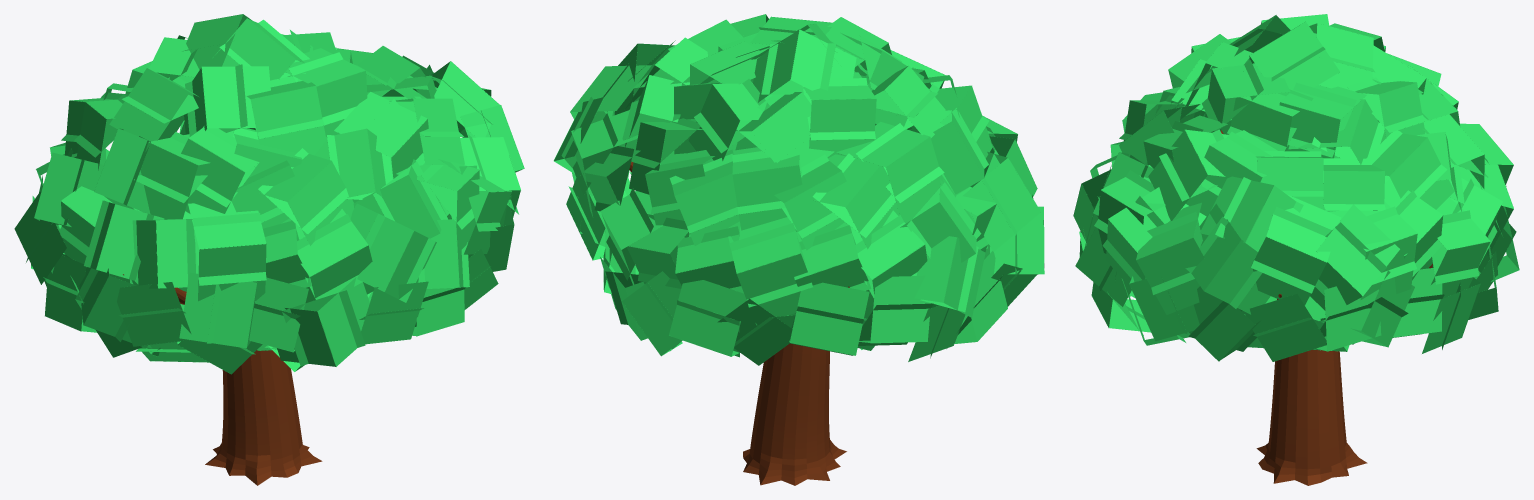
Rendered from Tree_Oak.fbx.
3 renders of one model, left to right at view 1: azimuth 30°, elevation 25°; view 2: azimuth 150°, elevation 25°; view 3: azimuth 270°, elevation 25°, orthographic. The views are drawn at different scales.
Parts seen in each view (by area): view 1: Trunk, Leaves.017, Leaves.039, Leaves.070, Leaves.037, Leaves.071, Leaves.031, Leaves.038, Leaves.016, Leaves.014, Leaves.010, Leaves.013 (+39 smaller); view 2: Trunk, Leaves.050, Leaves.011, Leaves.074, Leaves.073, Leaves.021, Leaves.012, Leaves.052, Leaves.049, Leaves.048, Leaves.069, Leaves.004 (+38 smaller); view 3: Trunk, Leaves.026, Leaves.029, Leaves.043, Leaves.044, Leaves.054, Leaves.094, Leaves.067, Leaves.033, Leaves.055, Leaves.075, Leaves.060 (+38 smaller).
Part boxes in pixels (x1=…): Trunk: x1=205, y1=350, x2=322, y2=485; Leaves.017: x1=188, y1=201, x2=266, y2=301; Leaves.039: x1=277, y1=277, x2=369, y2=366; Leaves.070: x1=246, y1=73, x2=326, y2=155; Leaves.037: x1=350, y1=203, x2=436, y2=302; Leaves.071: x1=184, y1=64, x2=270, y2=136; Leaves.031: x1=258, y1=148, x2=353, y2=245; Leaves.038: x1=296, y1=209, x2=374, y2=299; Leaves.016: x1=179, y1=272, x2=257, y2=348; Leaves.014: x1=130, y1=218, x2=198, y2=288; Leaves.010: x1=134, y1=132, x2=210, y2=219; Leaves.013: x1=181, y1=126, x2=259, y2=213; Trunk: x1=743, y1=343, x2=846, y2=485; Leaves.050: x1=728, y1=217, x2=812, y2=325; Leaves.011: x1=836, y1=122, x2=944, y2=223; Leaves.074: x1=753, y1=29, x2=856, y2=102; Leaves.073: x1=802, y1=72, x2=876, y2=157; Leaves.021: x1=789, y1=282, x2=869, y2=355; Leaves.012: x1=812, y1=153, x2=899, y2=249; Leaves.052: x1=669, y1=280, x2=746, y2=357; Leaves.049: x1=732, y1=147, x2=802, y2=231; Leaves.048: x1=669, y1=149, x2=739, y2=245; Leaves.069: x1=736, y1=92, x2=834, y2=167; Leaves.004: x1=858, y1=275, x2=933, y2=345; Trunk: x1=1256, y1=349, x2=1367, y2=485; Leaves.026: x1=1251, y1=194, x2=1341, y2=305; Leaves.029: x1=1136, y1=202, x2=1204, y2=314; Leaves.043: x1=1310, y1=204, x2=1399, y2=310; Leaves.044: x1=1185, y1=203, x2=1270, y2=314; Leaves.054: x1=1366, y1=130, x2=1454, y2=209; Leaves.094: x1=1200, y1=176, x2=1303, y2=251; Leaves.067: x1=1279, y1=82, x2=1366, y2=158; Leaves.033: x1=1148, y1=129, x2=1228, y2=220; Leaves.055: x1=1431, y1=197, x2=1490, y2=298; Leaves.075: x1=1249, y1=21, x2=1339, y2=90; Leaves.060: x1=1242, y1=294, x2=1326, y2=361.
Size of the model in its own units: 728 by 720 by 671.
